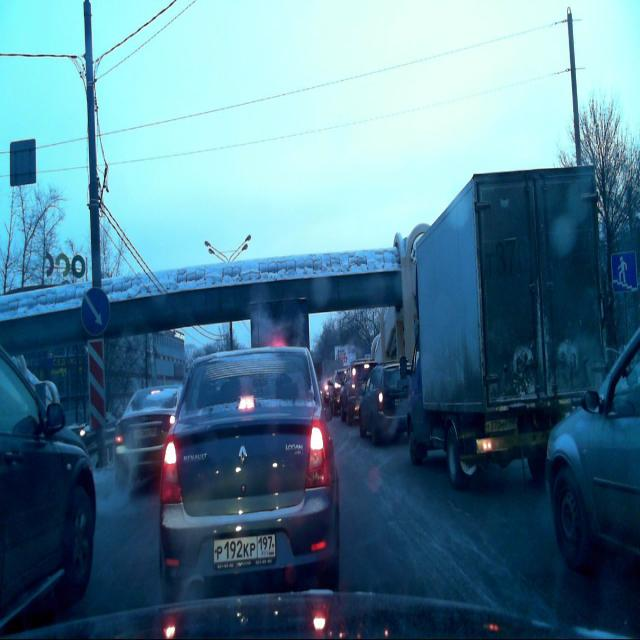object: (88, 340, 107, 433)
road sign: (610, 251, 637, 296)
